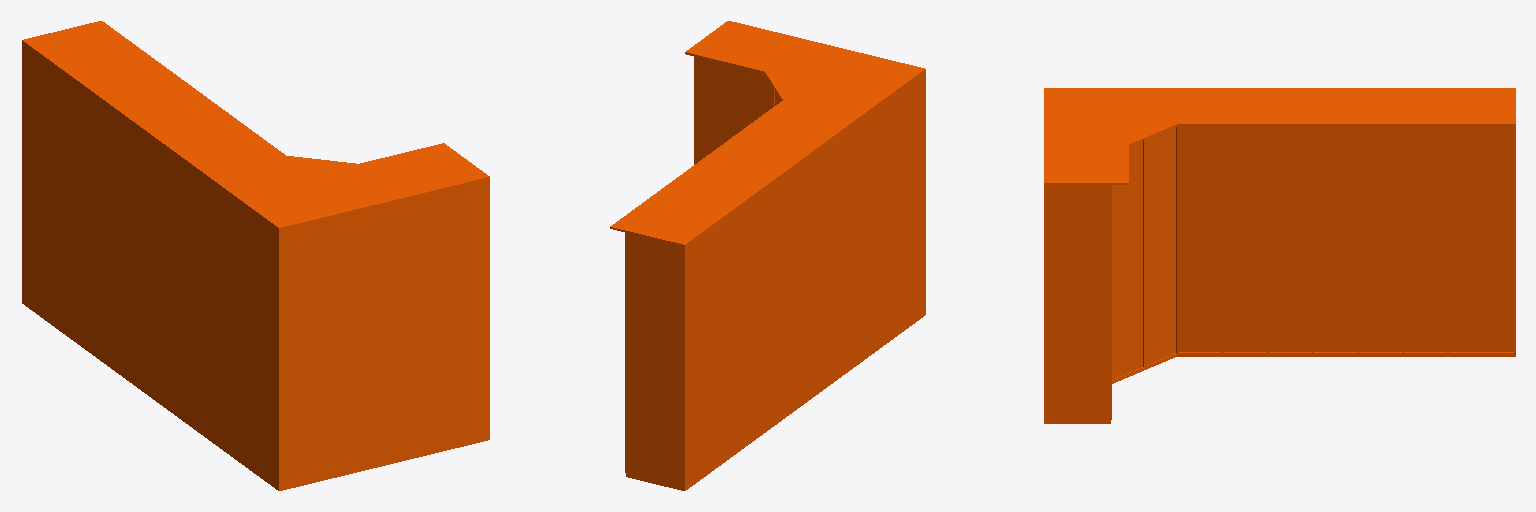
URDF robot description (Armoire_510079ea1a71f32eb057261be64dfc5):
<?xml version="1.0" ?>
<robot name="Armoire_510079ea1a71f32eb057261be64dfc5">
   <material name="obj_color">
      <color rgba="1.0 0.423529411765 0.0392156862745 1.0"/>
   </material>
   <link name="top">
      <inertial>
         <origin rpy="5.146902235409516e-05 0.0001190827134931756 0.0001385184261148571" xyz="0.002583453683062327 -0.0007129468691654533 0.0006653750401152432"/>
         <mass value="0.1540589423772948"/>
         <inertia ixx="0.0001351286192690091" ixy="1.679615054860268e-05" ixz="-4.025786489328544e-07" iyy="5.485196783469488e-05" iyz="-9.36173550697492e-07" izz="0.000119089574858424"/>
      </inertial>
      <visual>
         <origin rpy="0 0 0" xyz="0 0 0"/>
         <geometry>
            <mesh filename="top_watertight_tiny.stl" scale="1 1 1"/>
         </geometry>
         <material name="obj_color"/>
      </visual>
      <collision>
         <origin rpy="0 0 0" xyz="0 0 0"/>
         <geometry>
            <mesh filename="top_watertight_tiny.obj" scale="1 1 1"/>
         </geometry>
      </collision>
   </link>
   <link name="bottom">
      <inertial>
         <origin rpy="1.633333333199431e-08 1.633333333199431e-08 1.633333333362855e-08" xyz="0.3464080000000008 0.3464080000000008 0.3464080000000008"/>
         <mass value="0.0009800000000000017"/>
         <inertia ixx="1.633333333253906e-08" ixy="5.447480642029219e-19" ixz="5.447480642029219e-19" iyy="1.633333333253906e-08" iyz="5.447480642029219e-19" izz="1.633333333253906e-08"/>
      </inertial>
      <visual>
         <origin rpy="0 0 0" xyz="0 0 0"/>
         <geometry>
            <mesh filename="bottom_watertight_tiny.stl" scale="1 1 1"/>
         </geometry>
         <material name="obj_color"/>
      </visual>
   </link>
   <joint name="rotation" type="revolute">
      <origin xyz="0 0 0"/>
      <axis xyz="0 0 -1"/>
      <parent link="bottom"/>
      <child link="top"/>
      <dynamics damping="1.0" friction="1.0"/>
      <limit effort="0.1" velocity="0.1" lower="0" upper="0.001"/>
   </joint>
</robot>

--- Facts derived from the render (not from the file) ---
3 views of the same robot in one strip: view 1: azimuth 30°, elevation 25°; view 2: azimuth 150°, elevation 25°; view 3: azimuth 270°, elevation 25° (orthographic).
Robot: Armoire_510079ea1a71f32eb057261be64dfc5 — 2 links, 1 joints (1 revolute); root link bottom; default pose: every joint at zero.
Links seen in each view (by area): view 1: top; view 2: top; view 3: top.
Boxes of the visible links, x1,y1,x2,y2 form: top: [22, 21, 489, 490]; top: [610, 21, 925, 490]; top: [1044, 88, 1515, 423].
Bounding box of the posed robot: 0.0441 × 0.0932 × 0.0526 m (x, y, z).
Meshes: 2 distinct files referenced, 1 mesh visuals loaded (1 binary STL); not drawn: 1 (reference not matched to a file when rendering).
